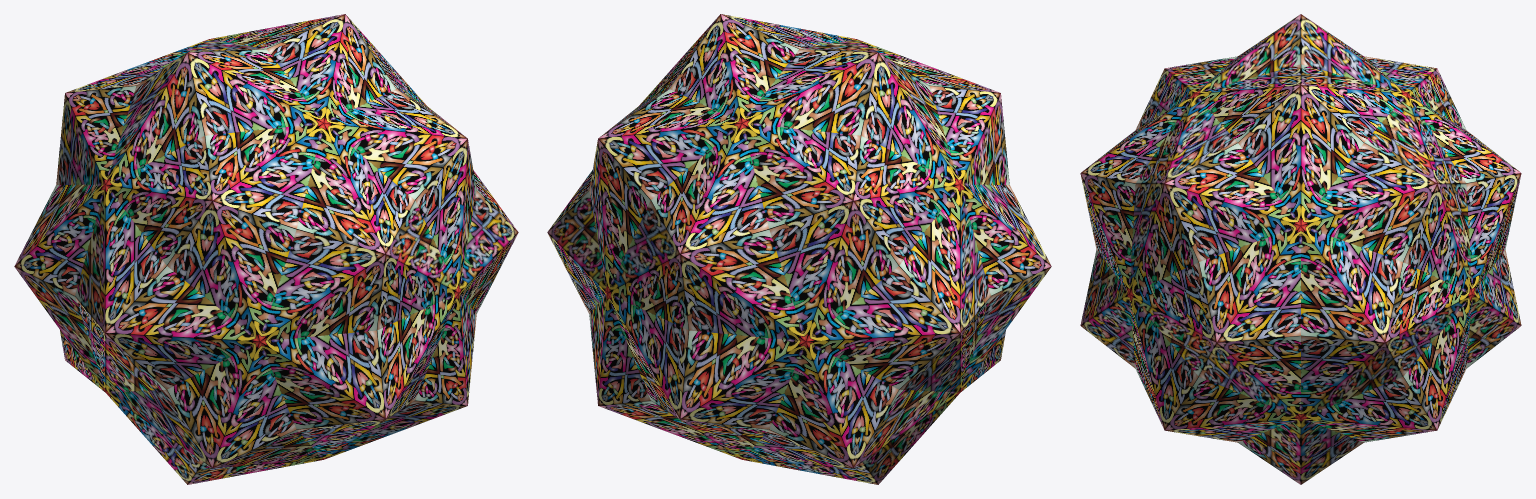
Rendered from 33SmallIcosacronicHexecontahedron.obj.
3 views of the same model, side by side, from view 1: azimuth 30°, elevation 25°; view 2: azimuth 150°, elevation 25°; view 3: azimuth 270°, elevation 25° (orthographic). The views are drawn at different scales.
Bounding box in the file's own units: 3.62 × 3.62 × 3.62.
1 material, 1 textured.
